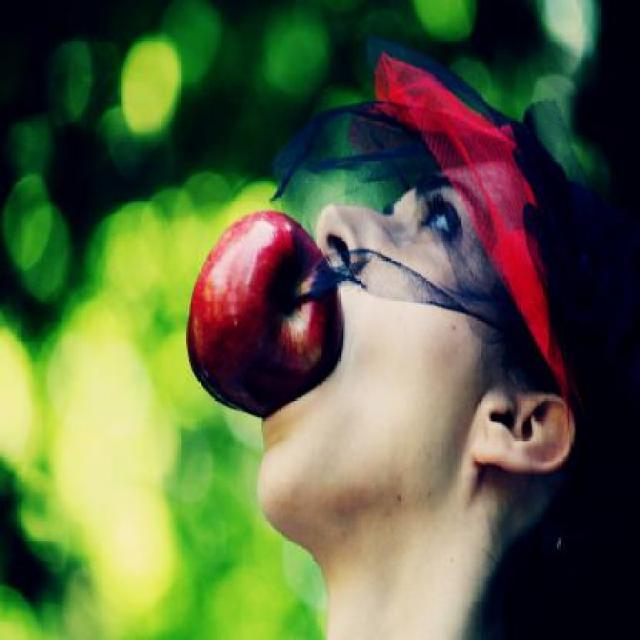Apple pie: (181, 203, 350, 423)
